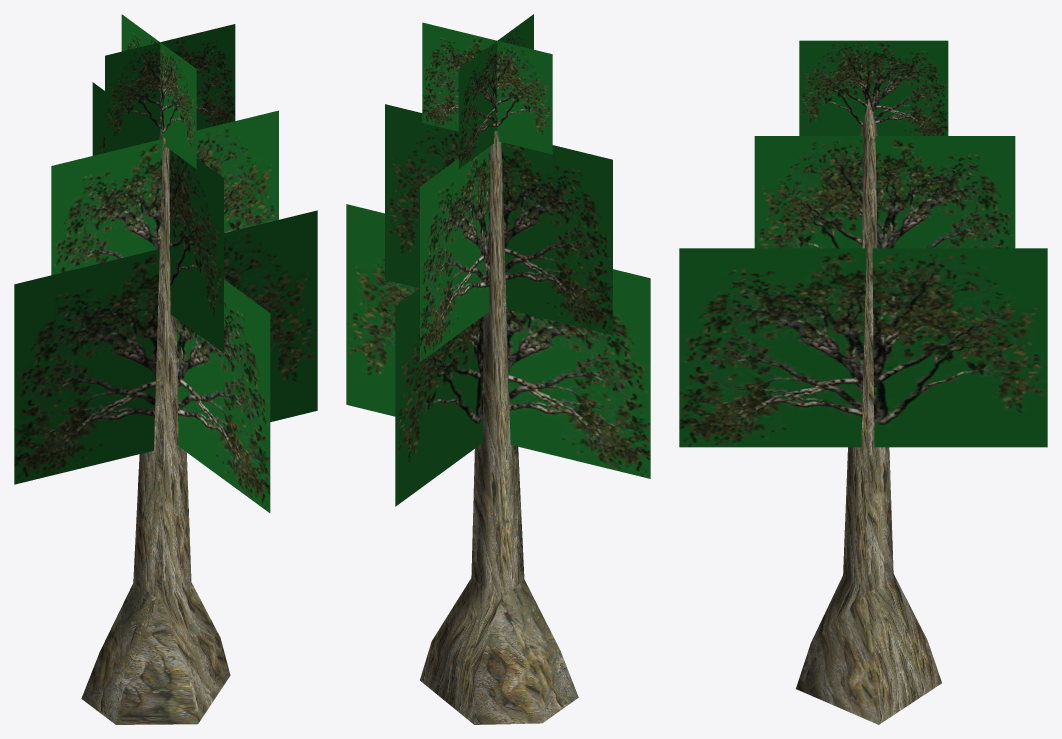
File: decd_brownflaredroots_l3.fbx
3 renders of one model, left to right at view 1: azimuth 30°, elevation 25°; view 2: azimuth 150°, elevation 25°; view 3: azimuth 270°, elevation 25°, orthographic.
Visible parts, largest first — view 1: mesh_node; view 2: mesh_node; view 3: mesh_node.
Part boxes in pixels (x1=…): mesh_node: x1=14, y1=14, x2=317, y2=724; mesh_node: x1=346, y1=14, x2=650, y2=724; mesh_node: x1=679, y1=40, x2=1047, y2=724.
Size of the model in its own units: 11.67 by 24.02 by 12.36.
